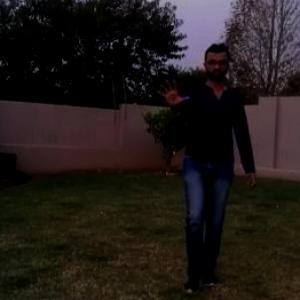follow_hand: (152, 74, 193, 110)
